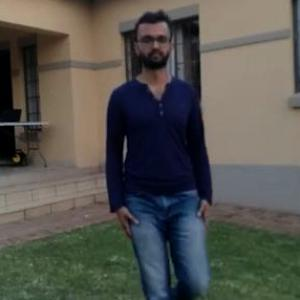follow: (104, 16, 206, 299)
